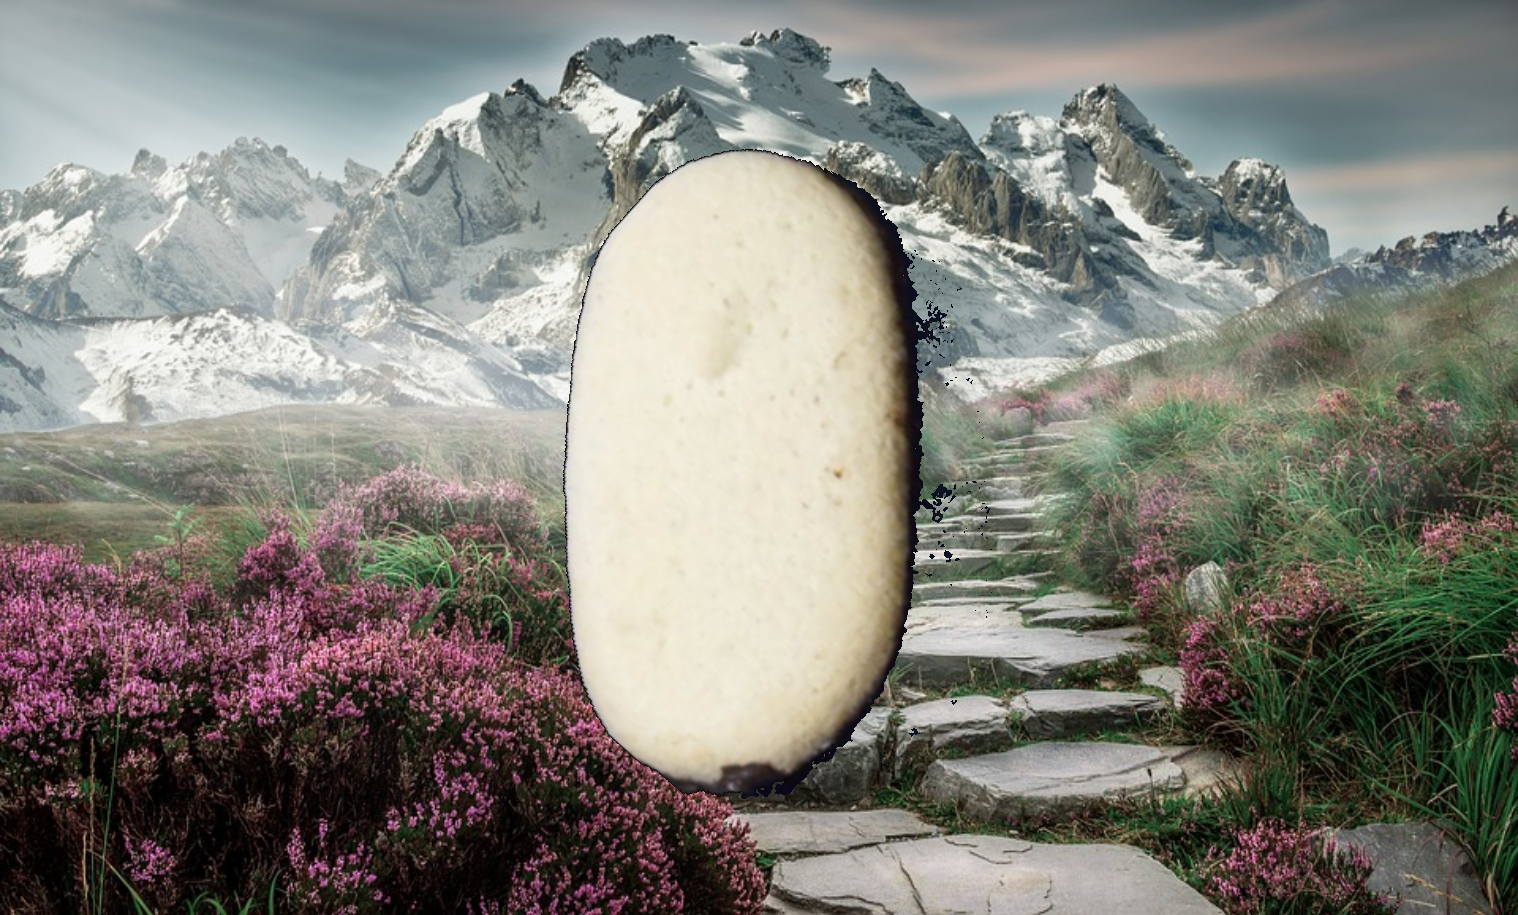test: (353, 73, 1180, 899)
